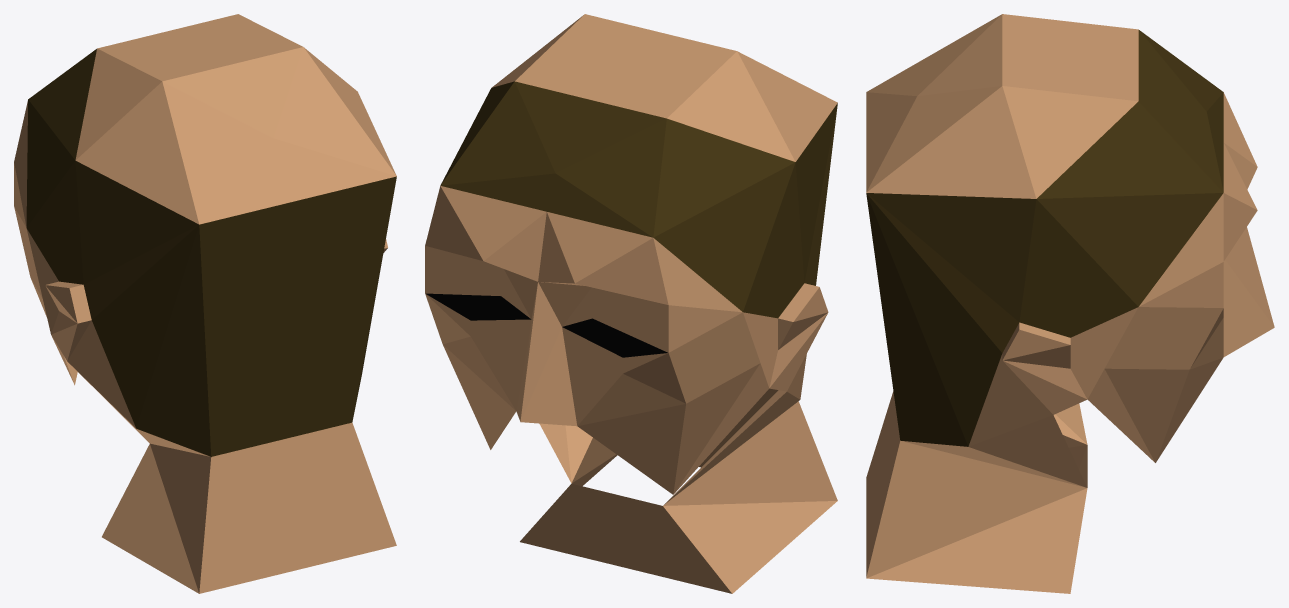
The model's file is player_male_head_4_0.obj.
3 renders of one model, left to right at view 1: azimuth 30°, elevation 25°; view 2: azimuth 150°, elevation 25°; view 3: azimuth 270°, elevation 25°, orthographic. The views are drawn at different scales.
Size of the model in its own units: 0.1719 by 0.25 by 0.1875.
